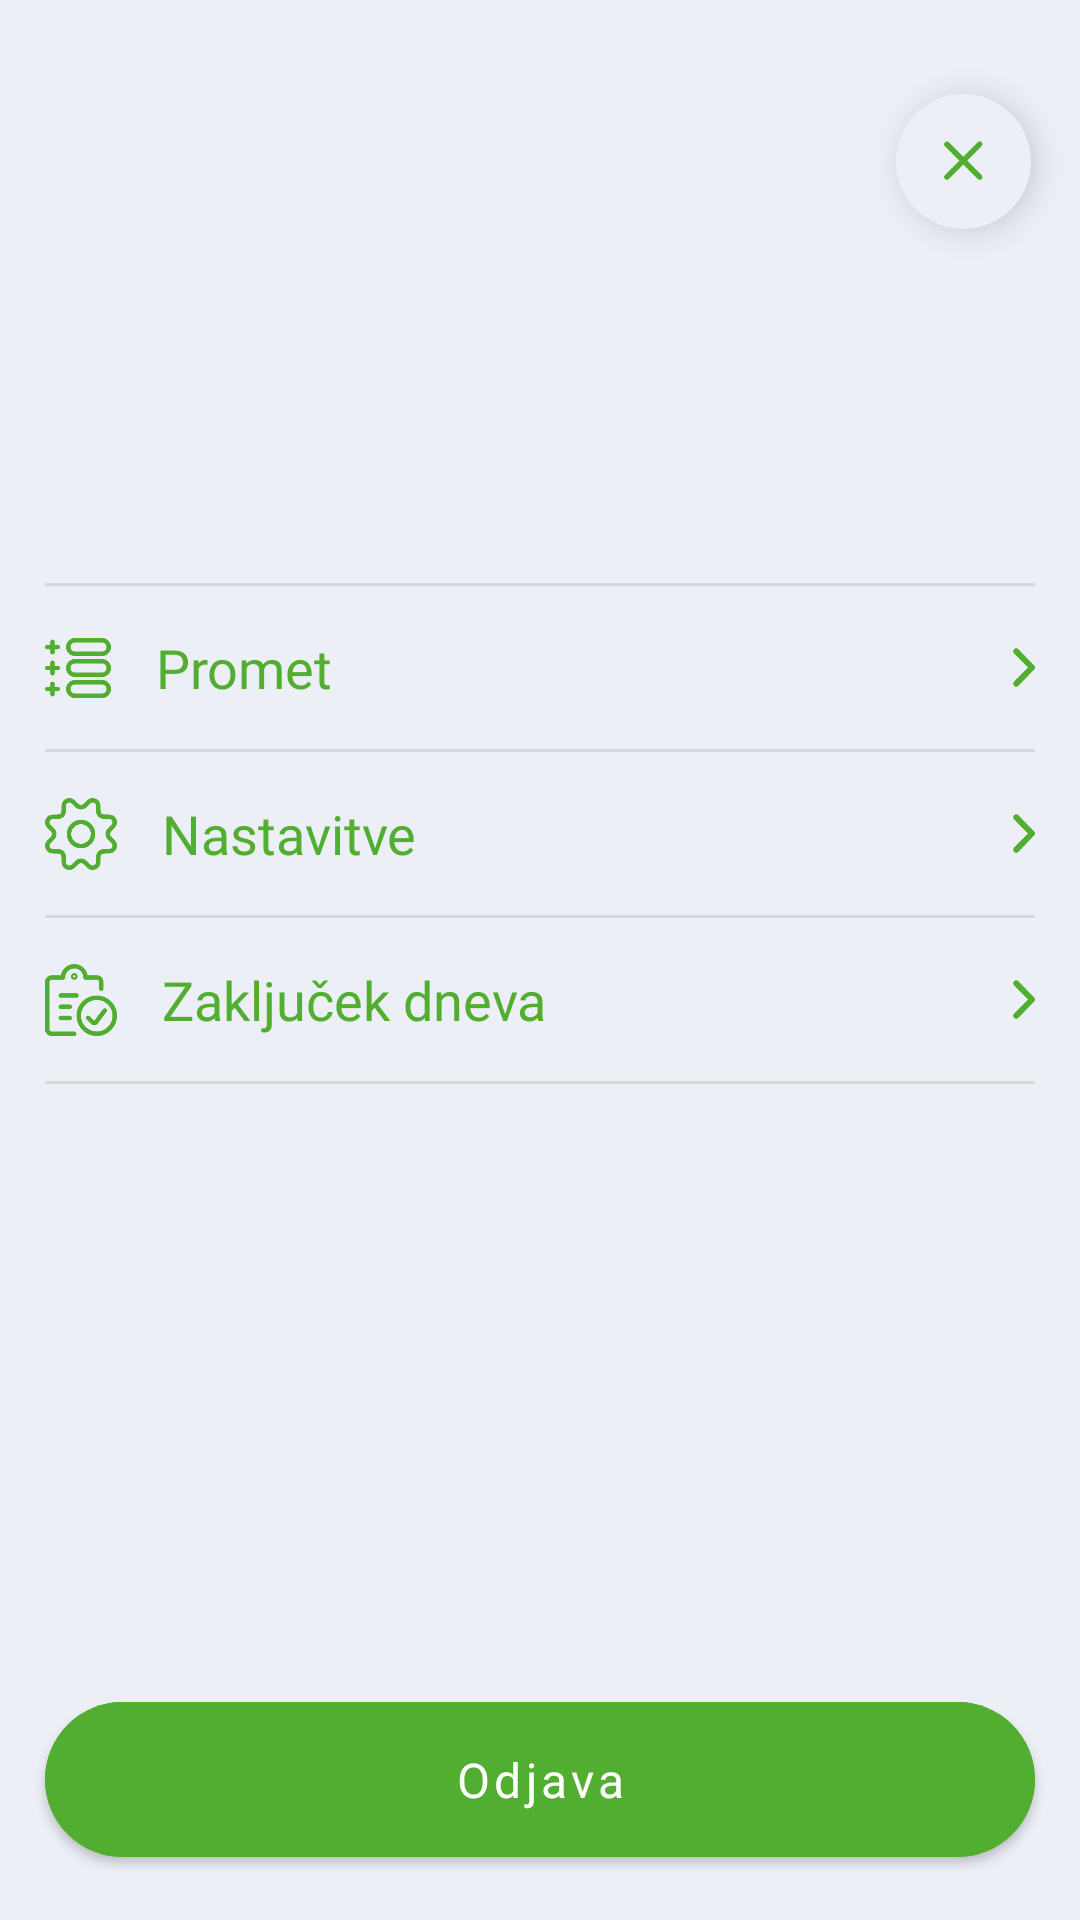

Screen size 1080 × 1920. Icon name, then its box in pixels as (x1, y1, x2, y2):
close: (944, 141, 983, 180)
settings: (45, 798, 117, 870)
